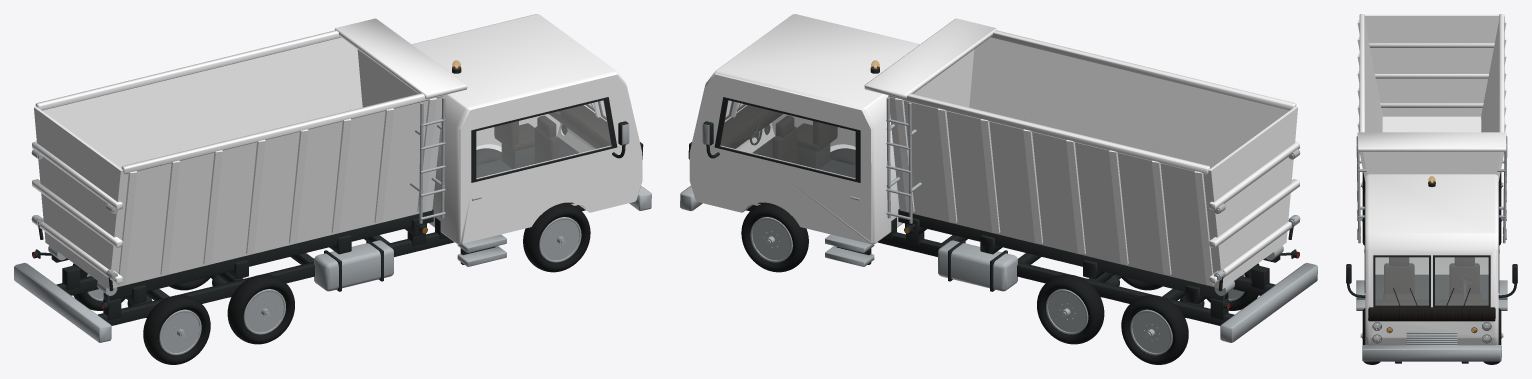
File: tipper.glb
The picture shows the model from 3 angles, left to right: view 1: azimuth 30°, elevation 25°; view 2: azimuth 150°, elevation 25°; view 3: azimuth 270°, elevation 25°; orthographic projection. The views are drawn at different scales.
Parts seen in each view (by area): view 1: Finite open tapered dump hopper, Shaped hollow cab with cut wheel arches and true glazing ape, Cab -1 side window finite glazing, Headboard cab-protection lip, Equipment longitudinal subframe -750, Hopper upper rolled rail -1, Hopper upper rolled rail 1, Chassis longitudinal rail -590, Chassis fuel tank -1, Closed formed bumper -4480.0, Axle 2 right wheel rounded tyre carcass, Axle 3 right wheel rounded tyre carcass (+21 smaller); view 2: Finite open tapered dump hopper, Shaped hollow cab with cut wheel arches and true glazing ape, Cab 1 side window finite glazing, Headboard cab-protection lip, Equipment longitudinal subframe 750, Hopper upper rolled rail 1, Hopper upper rolled rail -1, Chassis longitudinal rail 590, Chassis fuel tank 1, Closed formed bumper -4480.0, Axle 2 left wheel rounded tyre carcass, Axle 3 left wheel rounded tyre carcass (+21 smaller); view 3: Finite open tapered dump hopper, Shaped hollow cab with cut wheel arches and true glazing ape, Headboard cab-protection lip, Seated full-width dashboard, Cab -1 windscreen finite glazing, Cab 1 windscreen finite glazing, Closed formed bumper 4480.0, Closed dark cab floor, Cab seat -1 backrest, Cab seat 1 backrest, Hopper upper rolled rail 1, Hopper upper rolled rail -1 (+18 smaller).
Boxes of the visible parts, left/top/right/bottom form: Finite open tapered dump hopper: left=34, top=37, right=443, bottom=289; Shaped hollow cab with cut wheel arches and true glazing ape: left=412, top=14, right=642, bottom=244; Cab -1 side window finite glazing: left=476, top=100, right=611, bottom=179; Headboard cab-protection lip: left=335, top=18, right=467, bottom=98; Equipment longitudinal subframe -750: left=103, top=209, right=433, bottom=300; Hopper upper rolled rail -1: left=121, top=93, right=443, bottom=174; Hopper upper rolled rail 1: left=35, top=30, right=341, bottom=110; Chassis longitudinal rail -590: left=97, top=205, right=585, bottom=325; Chassis fuel tank -1: left=314, top=240, right=393, bottom=291; Closed formed bumper -4480.0: left=14, top=263, right=111, bottom=342; Axle 2 right wheel rounded tyre carcass: left=227, top=274, right=294, bottom=344; Axle 3 right wheel rounded tyre carcass: left=143, top=295, right=210, bottom=364; Finite open tapered dump hopper: left=888, top=37, right=1297, bottom=289; Shaped hollow cab with cut wheel arches and true glazing ape: left=689, top=14, right=919, bottom=244; Cab 1 side window finite glazing: left=720, top=100, right=855, bottom=179; Headboard cab-protection lip: left=864, top=18, right=996, bottom=98; Equipment longitudinal subframe 750: left=898, top=209, right=1228, bottom=300; Hopper upper rolled rail 1: left=888, top=93, right=1210, bottom=174; Hopper upper rolled rail -1: left=990, top=30, right=1296, bottom=110; Chassis longitudinal rail 590: left=746, top=205, right=1234, bottom=325; Chassis fuel tank 1: left=938, top=240, right=1017, bottom=291; Closed formed bumper -4480.0: left=1220, top=263, right=1317, bottom=342; Axle 2 left wheel rounded tyre carcass: left=1037, top=274, right=1104, bottom=344; Axle 3 left wheel rounded tyre carcass: left=1121, top=295, right=1188, bottom=364; Finite open tapered dump hopper: left=1363, top=14, right=1500, bottom=174; Shaped hollow cab with cut wheel arches and true glazing ape: left=1365, top=174, right=1498, bottom=345; Headboard cab-protection lip: left=1357, top=132, right=1506, bottom=151; Seated full-width dashboard: left=1368, top=299, right=1495, bottom=321; Cab -1 windscreen finite glazing: left=1375, top=257, right=1428, bottom=305; Cab 1 windscreen finite glazing: left=1435, top=257, right=1488, bottom=305; Closed formed bumper 4480.0: left=1362, top=345, right=1501, bottom=361; Closed dark cab floor: left=1375, top=274, right=1488, bottom=299; Cab seat -1 backrest: left=1384, top=263, right=1414, bottom=293; Cab seat 1 backrest: left=1449, top=263, right=1479, bottom=293; Hopper upper rolled rail 1: left=1499, top=14, right=1504, bottom=132; Hopper upper rolled rail -1: left=1359, top=14, right=1364, bottom=132.
Size of the model in its own units: 9.17 by 3.42 by 3.04.
Materials: 12 (10 with a texture image).
